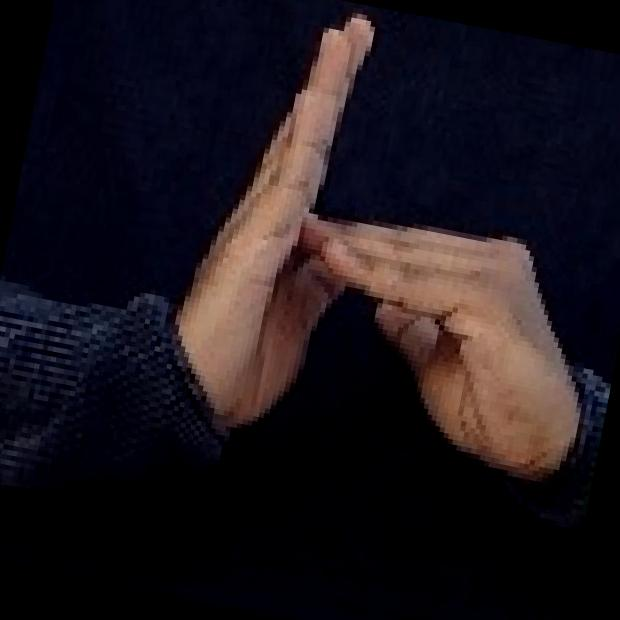Y: (156, 0, 620, 515)
